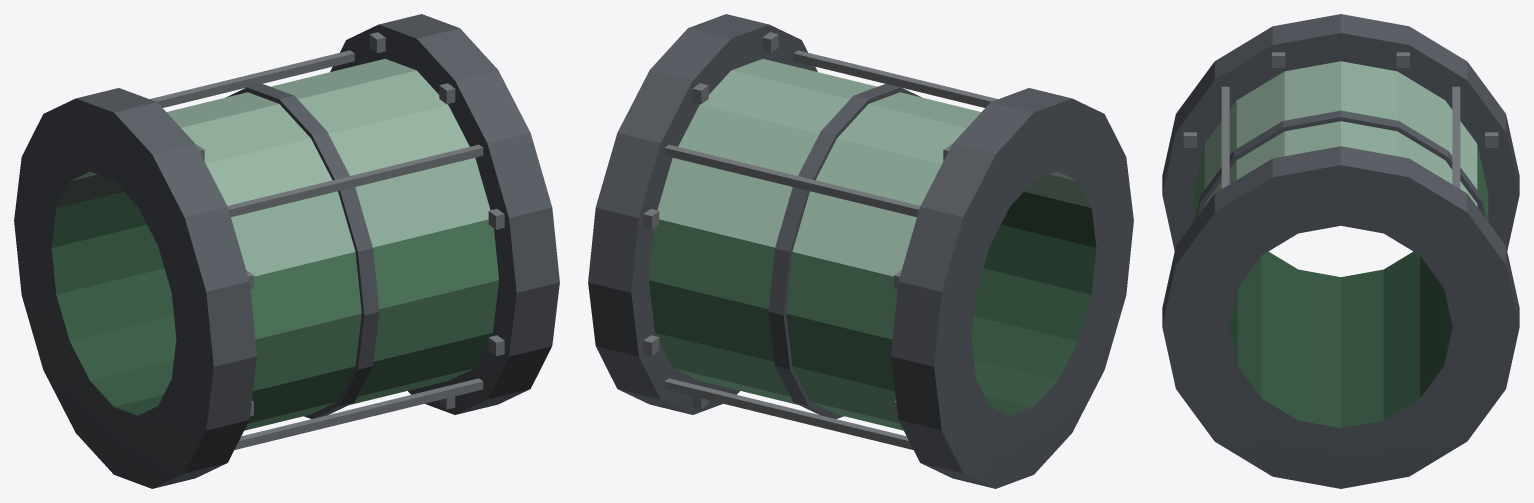
File: pipe.glass.coolant.glb
The picture shows the model from 3 angles, left to right: view 1: azimuth 30°, elevation 25°; view 2: azimuth 150°, elevation 25°; view 3: azimuth 270°, elevation 25°; orthographic projection. The views are drawn at different scales.
Visible parts, largest first — view 1: pipe_glass_coolant; view 2: pipe_glass_coolant; view 3: pipe_glass_coolant.
Part boxes in pixels (x1=…): pipe_glass_coolant: x1=14, y1=14, x2=559, y2=488; pipe_glass_coolant: x1=588, y1=14, x2=1133, y2=488; pipe_glass_coolant: x1=1162, y1=14, x2=1519, y2=488.
Size of what is drawn, in the model's own units: 1.6 by 1.6 by 1.6.
